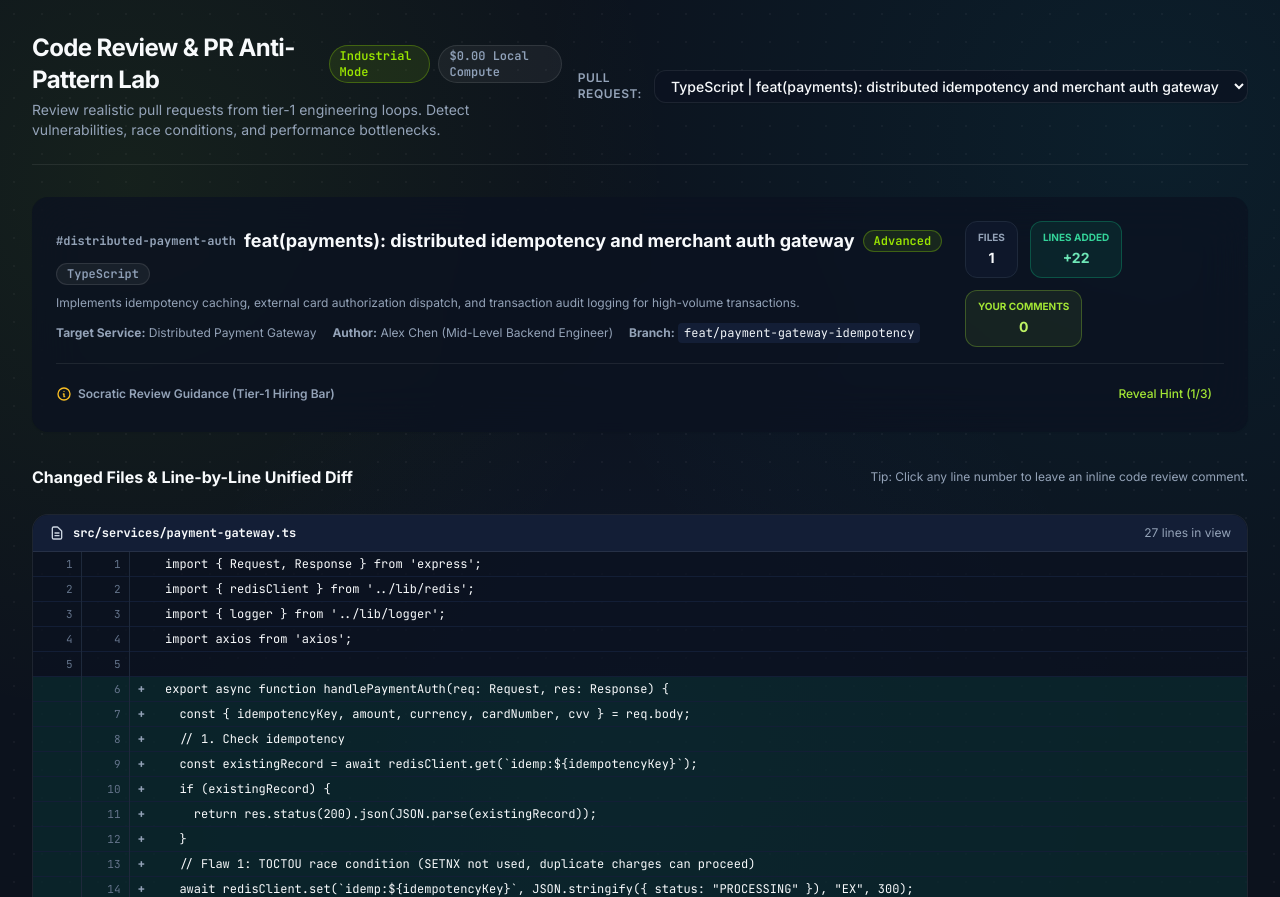
Scenario: CodeReviewPage › reveals Socratic review guidance hints progressively
The image size is (1280, 897).
What coordinates should you click on to do the following:
click the button "Reveal Hint (1/3)"
I would click on:
 (1165, 394)
Its box is [1106,380,1224,408].
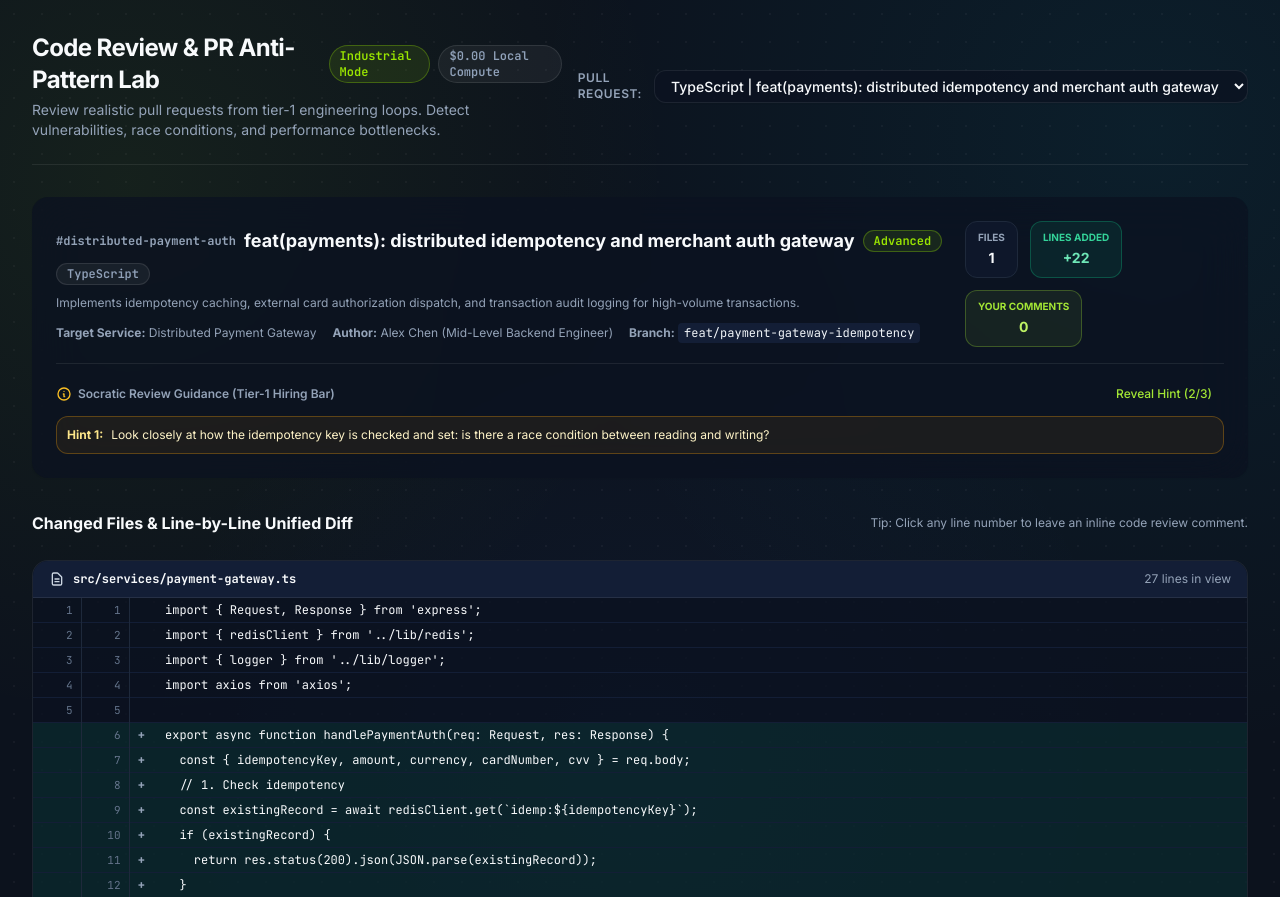
Expected: the text "Hint 1:" is shown, [67,427,103,443]
What coordinates should you click on to do the following:
click the button "Reveal Hint (2/3)"
I would click on:
 (1164, 394)
Its box is [1104,380,1224,408].
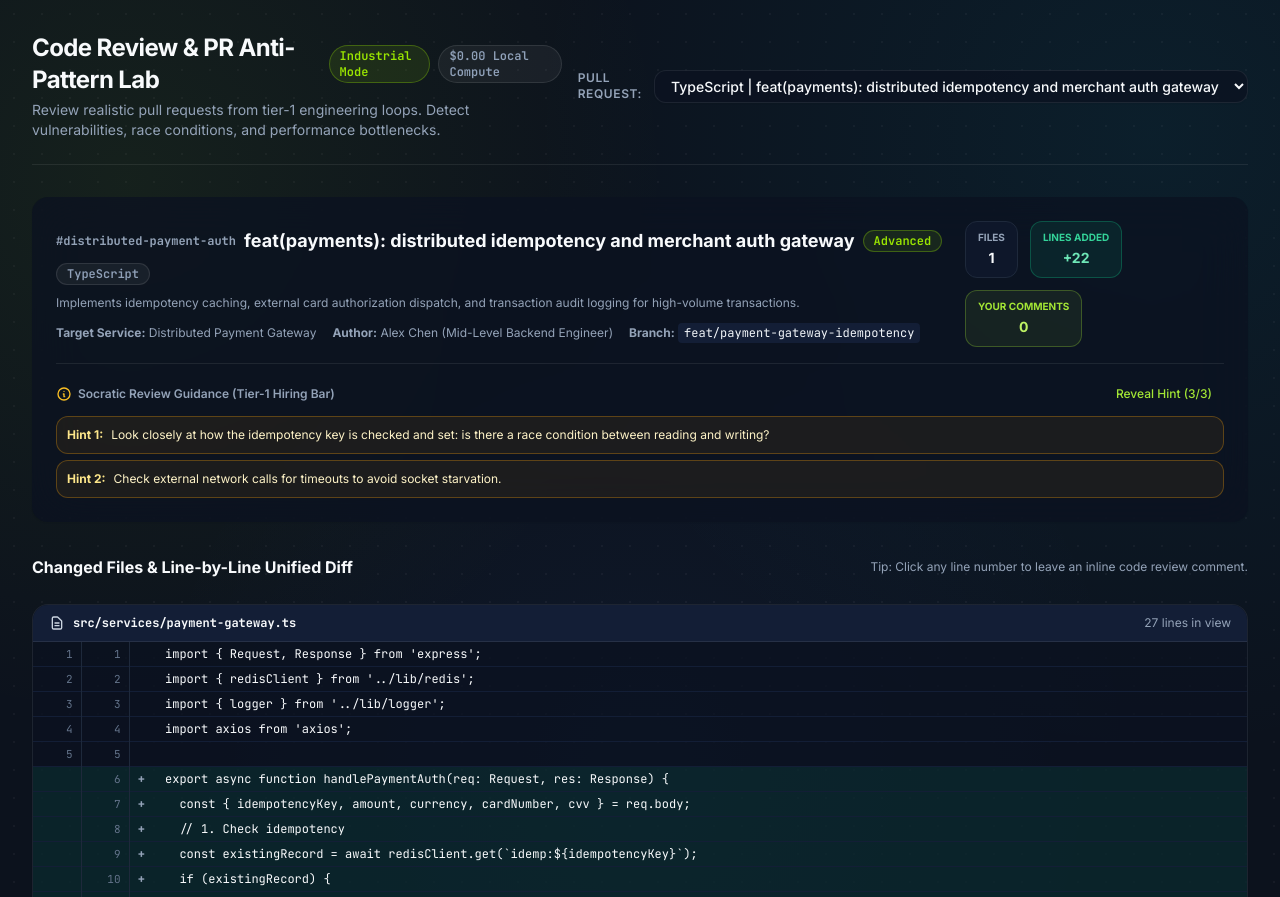
Expected: the text "Hint 2:" is shown, [67,471,106,487]
